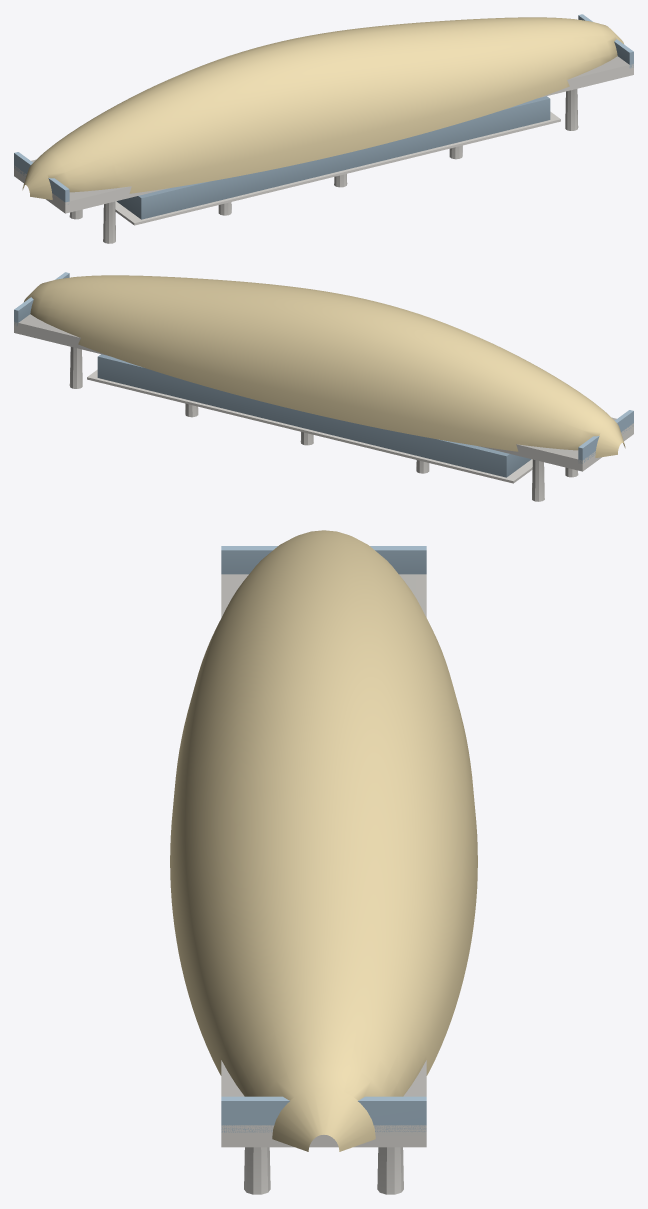
File: metro_station.glb
3 renders of one model, top to bottom at view 1: azimuth 30°, elevation 25°; view 2: azimuth 150°, elevation 25°; view 3: azimuth 270°, elevation 25°, orthographic. The views are drawn at different scales.
Visible parts, largest first — view 1: metro_station; view 2: metro_station; view 3: metro_station.
Boxes of the visible parts, <box> form: metro_station: <box>14,14,633,243</box>; metro_station: <box>14,272,633,501</box>; metro_station: <box>170,530,477,1194</box>.
Size of the model in its own units: 134 by 28.73 by 30.
